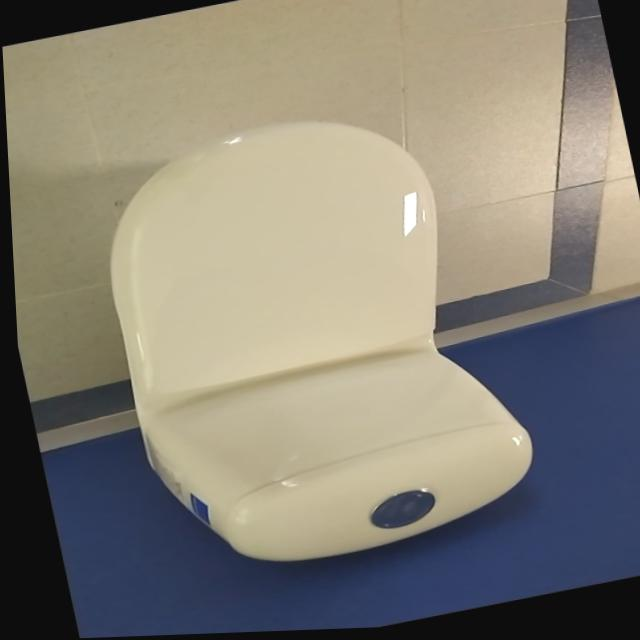toilet: (79, 89, 546, 592)
